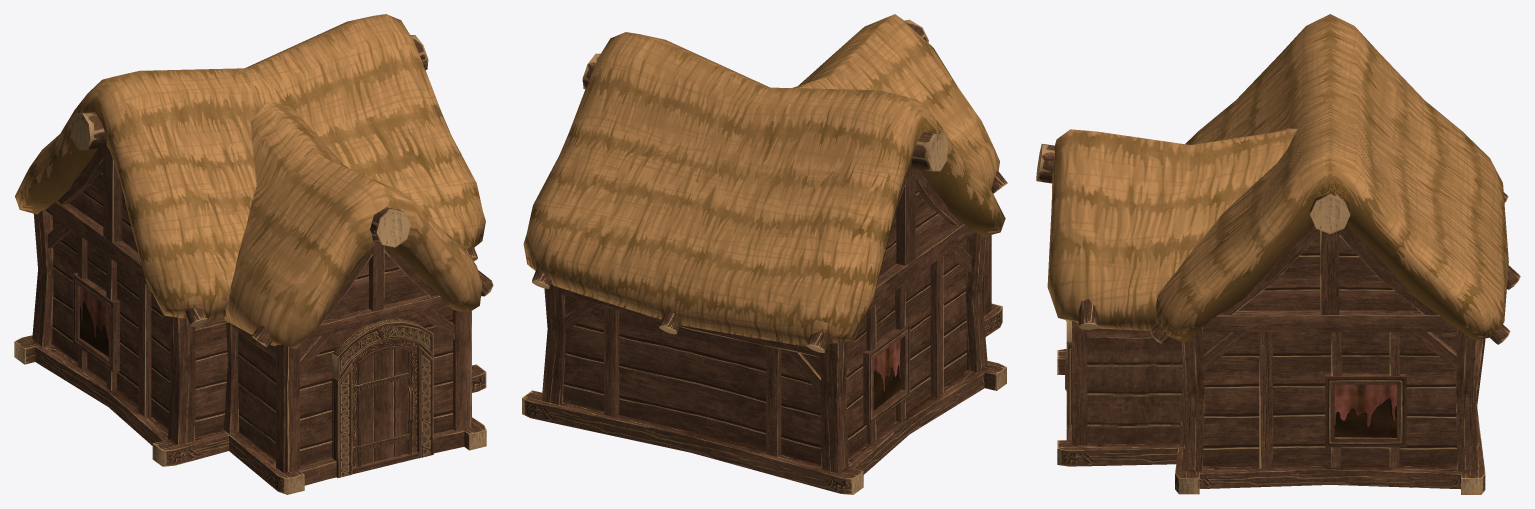
File: House2.fbx
3 renders of one model, left to right at view 1: azimuth 30°, elevation 25°; view 2: azimuth 150°, elevation 25°; view 3: azimuth 270°, elevation 25°, orthographic. The views are drawn at different scales.
Visible parts, largest first — view 1: House2; view 2: House2; view 3: House2.
Part boxes in pixels (x1,y1,x2,y2): House2: (14, 14, 493, 494); House2: (522, 14, 1007, 494); House2: (1036, 14, 1520, 494).
Bounding box in the file's own units: 381 × 350 × 461.
